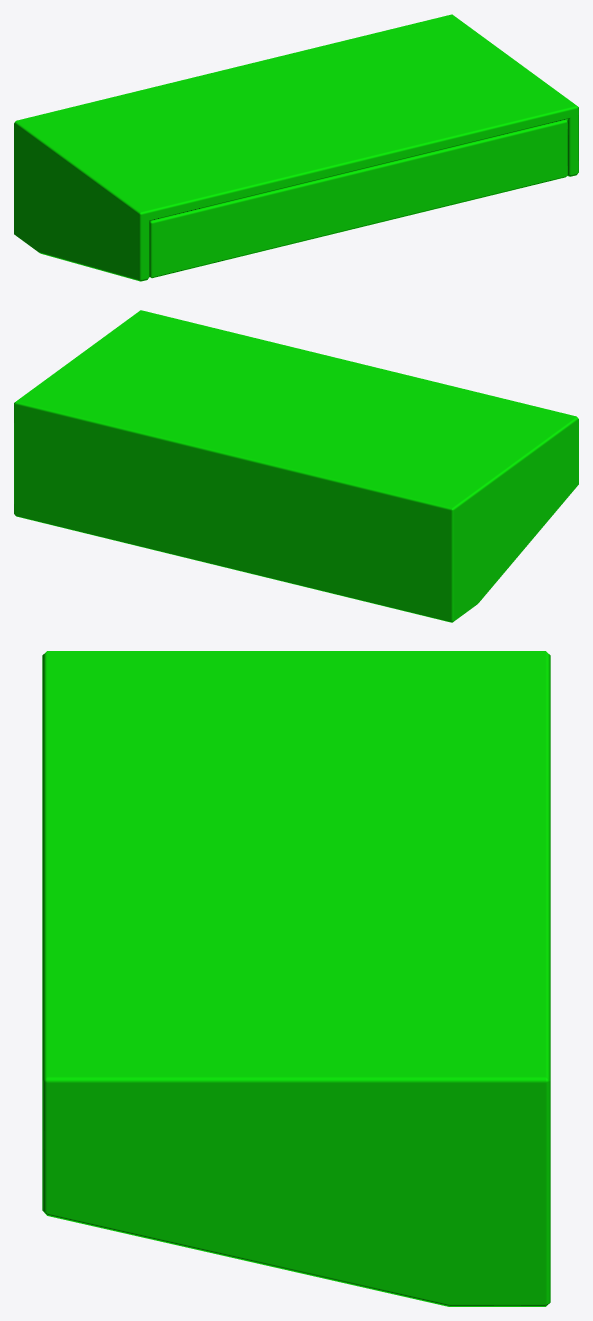
3 views of the same model, one above another, from view 1: azimuth 30°, elevation 25°; view 2: azimuth 150°, elevation 25°; view 3: azimuth 270°, elevation 25° (orthographic). The views are drawn at different scales.
Parts seen in each view (by area): view 1: Plane.454; view 2: Plane.454; view 3: Plane.454.
Boxes of the visible parts, x1=… form: Plane.454: x1=14, y1=14, x2=578, y2=281; Plane.454: x1=14, y1=310, x2=578, y2=622; Plane.454: x1=42, y1=651, x2=550, y2=1306.
Bounding box in the file's own units: 2 × 0.5 × 1.
